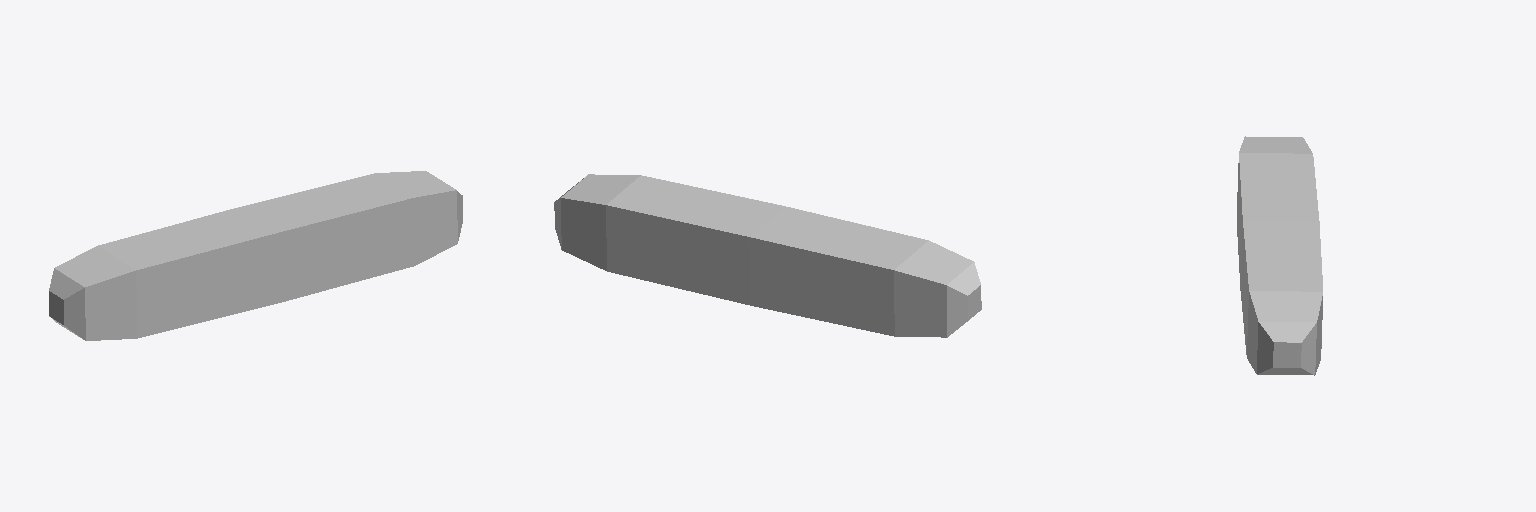
Rendered from LeftShoulder1.obj.
3 renders of one model, left to right at view 1: azimuth 30°, elevation 25°; view 2: azimuth 150°, elevation 25°; view 3: azimuth 270°, elevation 25°, orthographic.
Parts seen in each view (by area): view 1: ../rami/model/LeftShoulder1; view 2: ../rami/model/LeftShoulder1; view 3: ../rami/model/LeftShoulder1.
Part boxes in pixels (x1,y1,x2,y2): ../rami/model/LeftShoulder1: (49,171,462,340); ../rami/model/LeftShoulder1: (554,174,981,337); ../rami/model/LeftShoulder1: (1237,136,1322,375).
Bounding box in the file's own units: 0.1031 × 0.0174 × 0.0191.